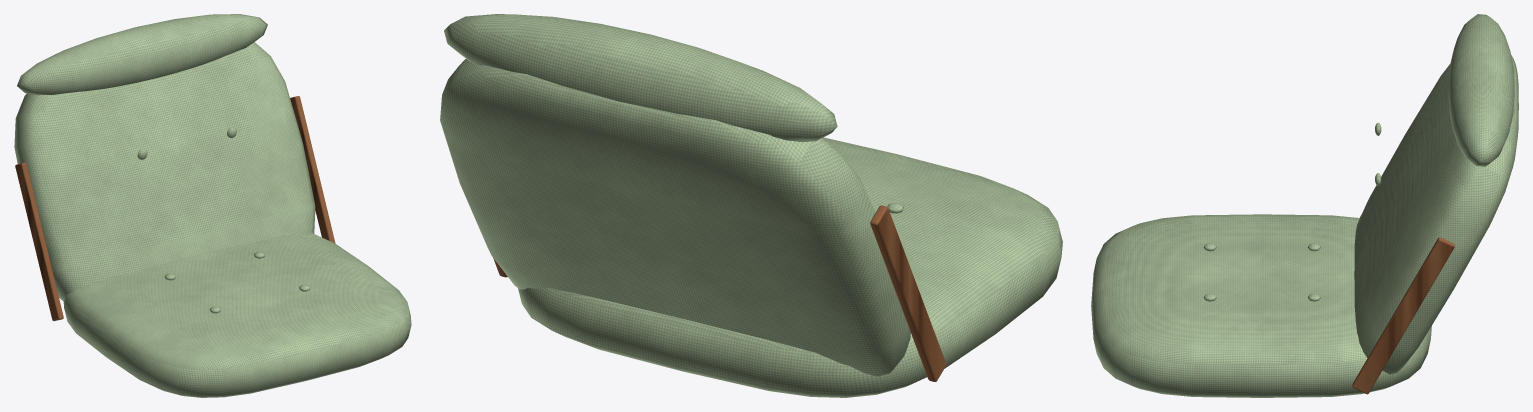
File: floor_lounger.glb
3 views of the same model, side by side, from view 1: azimuth 30°, elevation 25°; view 2: azimuth 150°, elevation 25°; view 3: azimuth 270°, elevation 25° (orthographic). The views are drawn at different scales.
Visible parts, largest first — view 1: model; view 2: model; view 3: model.
Part boxes in pixels (x1,y1,x2,y2): model: [14, 14, 411, 397]; model: [440, 14, 1062, 397]; model: [1091, 14, 1518, 397].
Size of the model in its own units: 1 by 0.8344 by 1.15.
2 materials, 2 textured.
